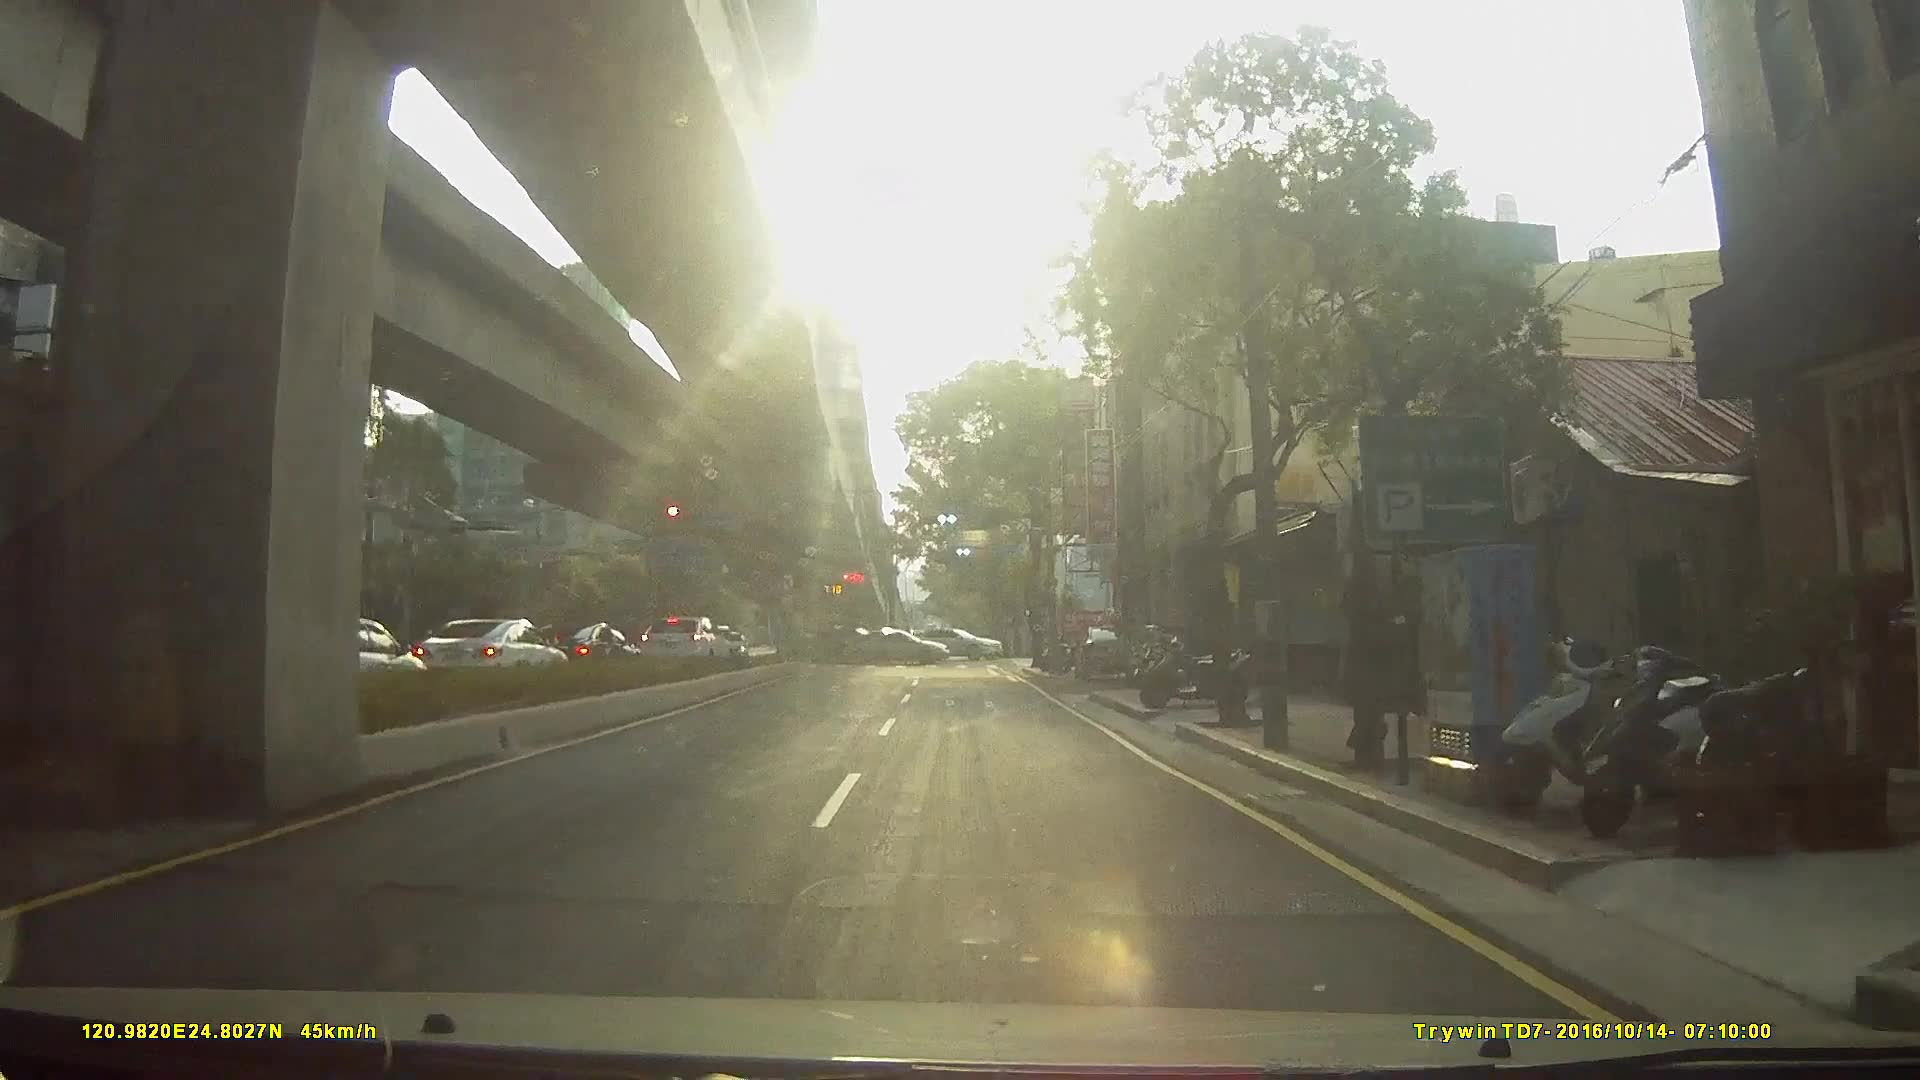vehicle: (249, 613, 421, 698), (402, 617, 562, 691), (522, 620, 640, 678), (632, 616, 735, 670), (1069, 618, 1139, 678), (851, 626, 959, 665), (919, 625, 1009, 662), (810, 625, 890, 666), (711, 628, 746, 661)
